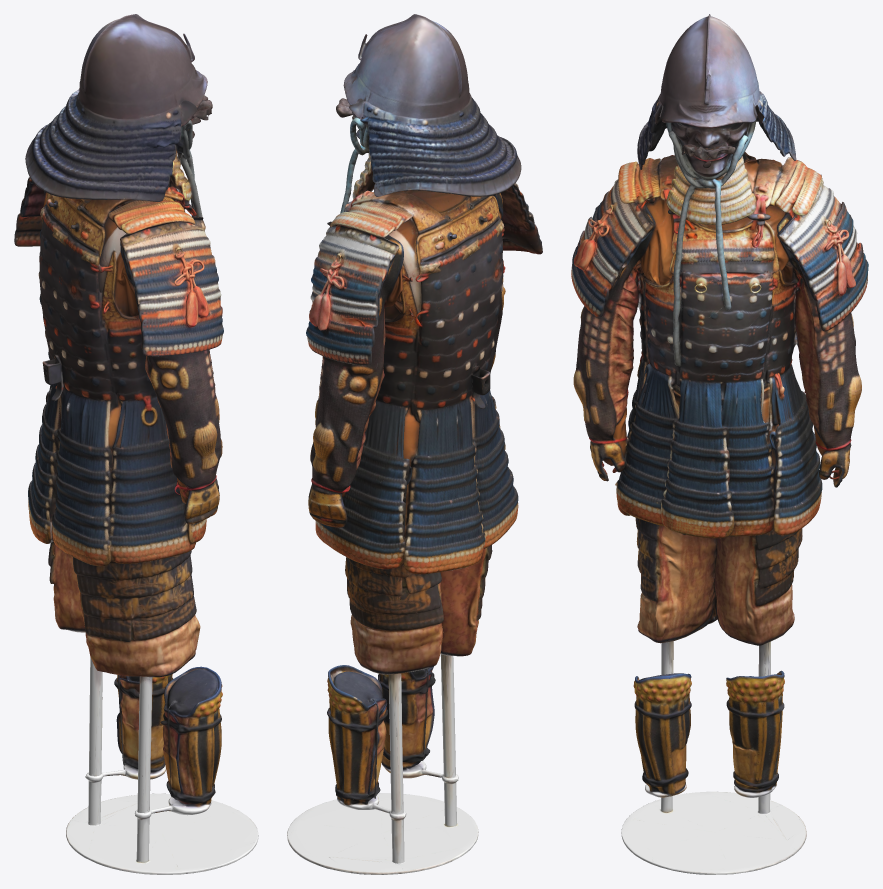
The picture shows the model from 3 angles, left to right: view 1: azimuth 30°, elevation 25°; view 2: azimuth 150°, elevation 25°; view 3: azimuth 270°, elevation 25°; orthographic projection. The views are drawn at different scales.
Visible parts, largest first — view 1: Object_3, Object_2; view 2: Object_3, Object_2; view 3: Object_3, Object_2.
Part boxes in pixels (x1,y1,x2,y2): Object_3: (14,14,258,874); Object_2: (16,27,256,874); Object_3: (288,14,541,874); Object_2: (287,28,542,872); Object_3: (571,14,868,870); Object_2: (573,54,863,874).
Size of the model in its own units: 477 by 1818 by 611.
Materials: 1 (1 with a texture image).
